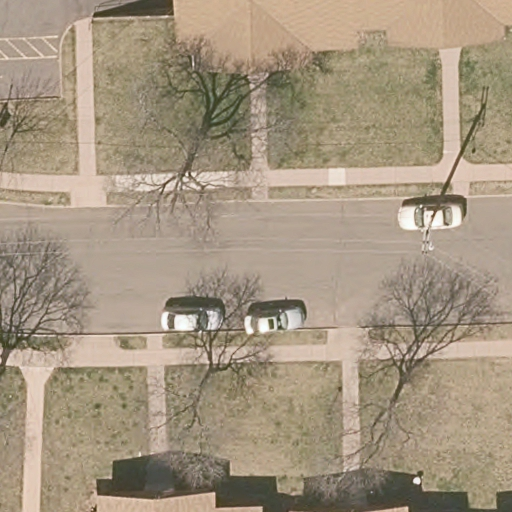DT: (420, 193, 448, 254)
